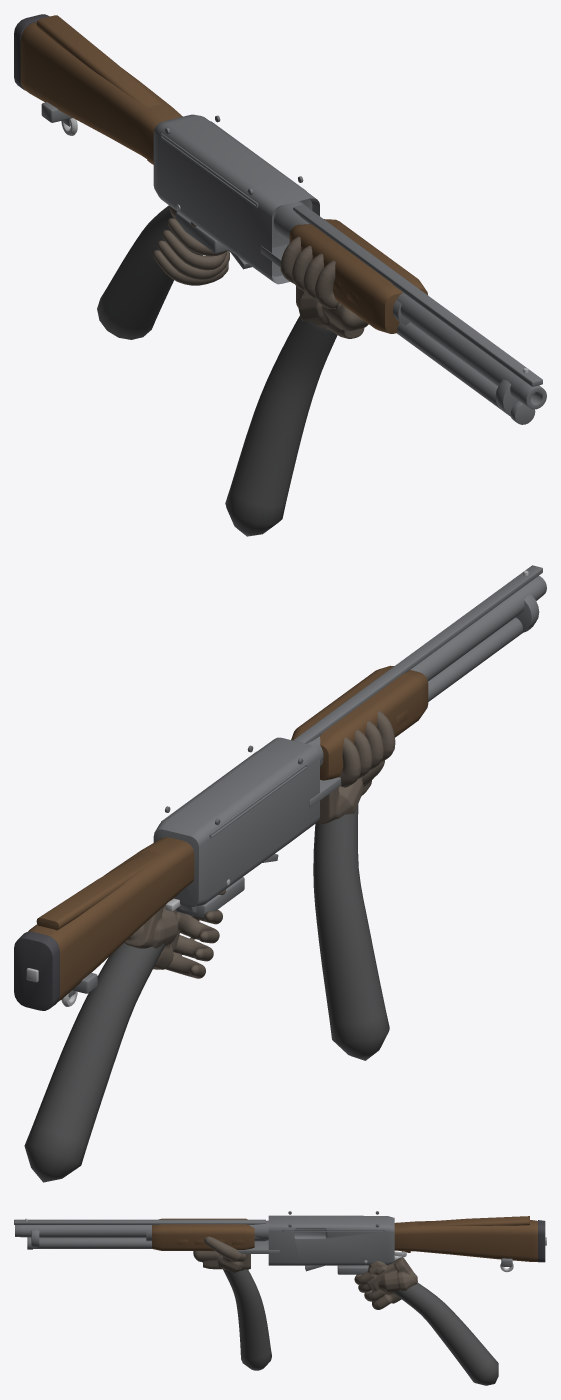
The picture shows the model from 3 angles, top to bottom: view 1: azimuth 30°, elevation 25°; view 2: azimuth 150°, elevation 25°; view 3: azimuth 270°, elevation 25°; orthographic projection. The views are drawn at different scales.
Visible parts, largest first — view 1: k870, HandLeft, HandRight; view 2: k870, HandRight, HandLeft; view 3: k870, HandRight, HandLeft.
Part boxes in pixels (left/top/right/bottom): k870: left=14, top=14, right=546, bottom=424; HandLeft: left=225, top=236, right=368, bottom=536; HandRight: left=97, top=205, right=229, bottom=339; k870: left=14, top=565, right=546, bottom=1010; HandRight: left=24, top=889, right=225, bottom=1182; HandLeft: left=313, top=711, right=395, bottom=1060; k870: left=14, top=1211, right=546, bottom=1274; HandRight: left=354, top=1257, right=498, bottom=1385; HandLeft: left=193, top=1236, right=271, bottom=1370.
Size of the model in its own units: 0.1499 by 0.3225 by 0.9338.
